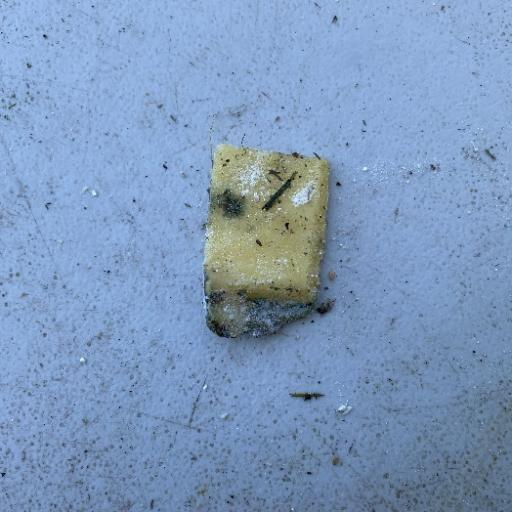Waste: (202, 143, 330, 339)
